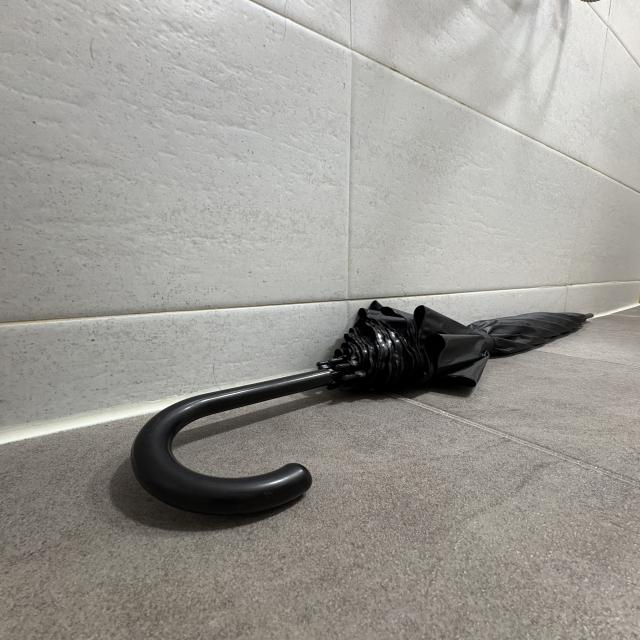umbrella: (129, 302, 597, 514)
